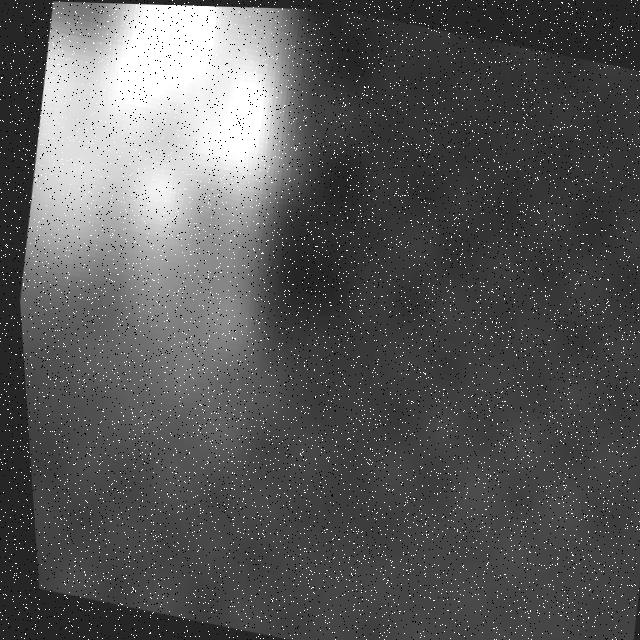person: (1, 1, 332, 423)
